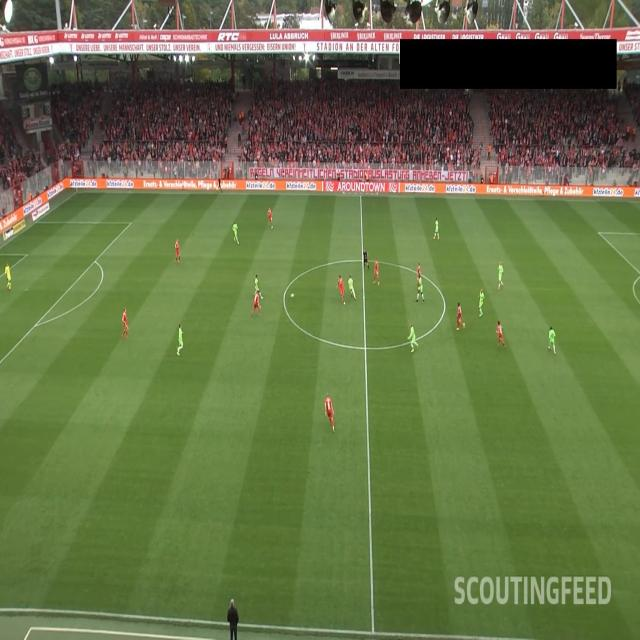ball: (290, 292, 294, 298)
